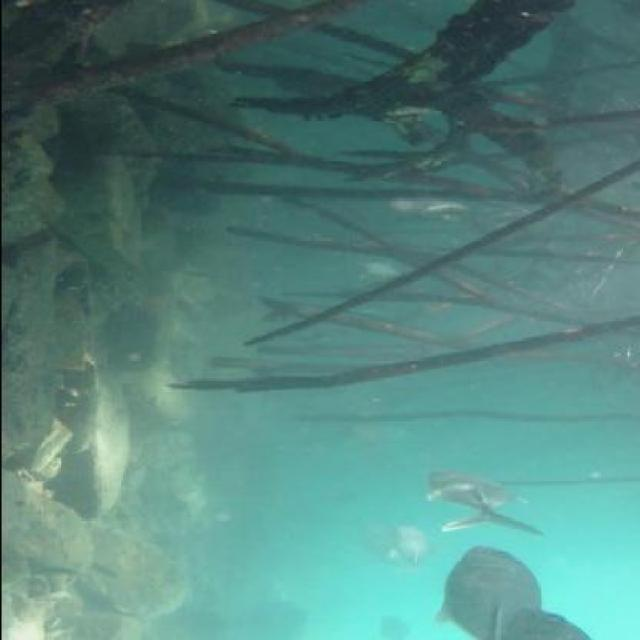Caranx_sexfasciatus_juvenile: (431, 540, 552, 640), (413, 469, 552, 534), (496, 603, 604, 640), (356, 515, 410, 574), (391, 516, 438, 578)
